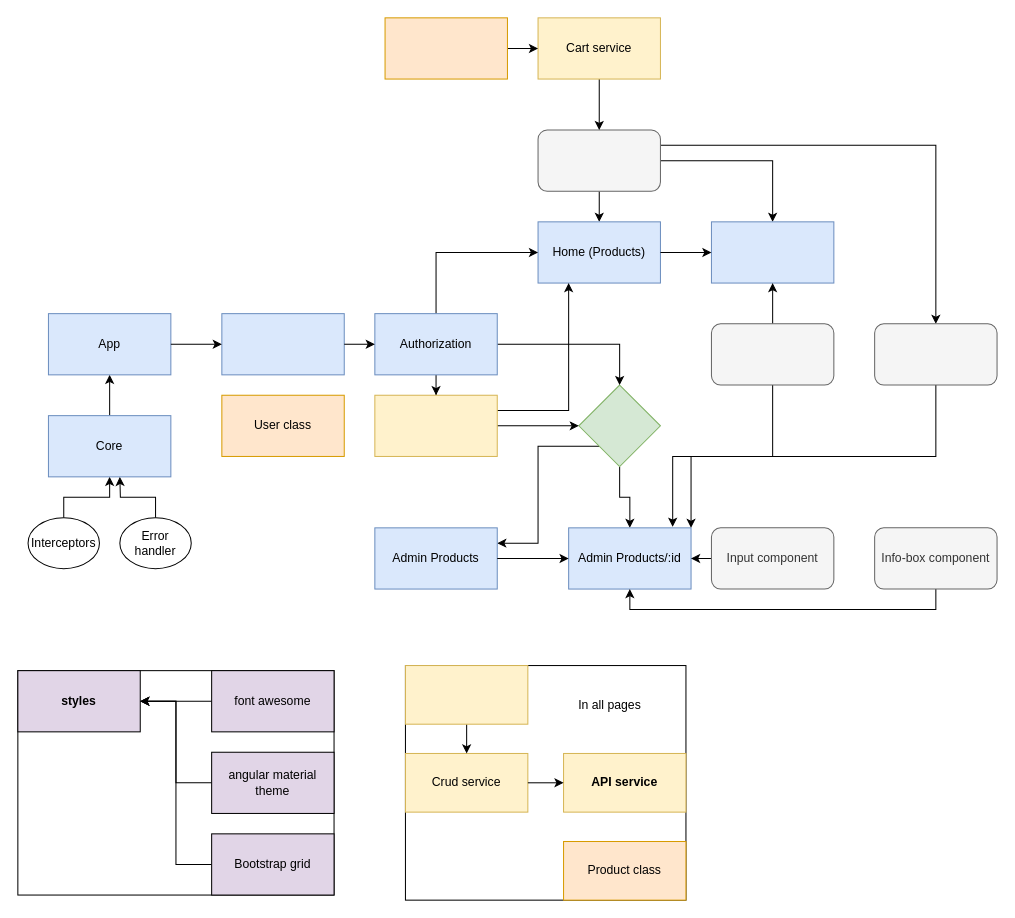
Image size: 1015x918. Some labels were removed from this diagram. Here are the shapes that lost their labels. From the top down, the box of each, then its label:
(384, 17, 507, 79): Cart
(537, 129, 660, 191): Cart component
(710, 221, 834, 283): Products/:id
(221, 313, 344, 375): layout
(710, 323, 834, 385): Image gallery component
(874, 323, 997, 385): Button component
(374, 394, 497, 456): User service
(578, 384, 660, 467): Admin guard
(404, 665, 528, 724): Http service
